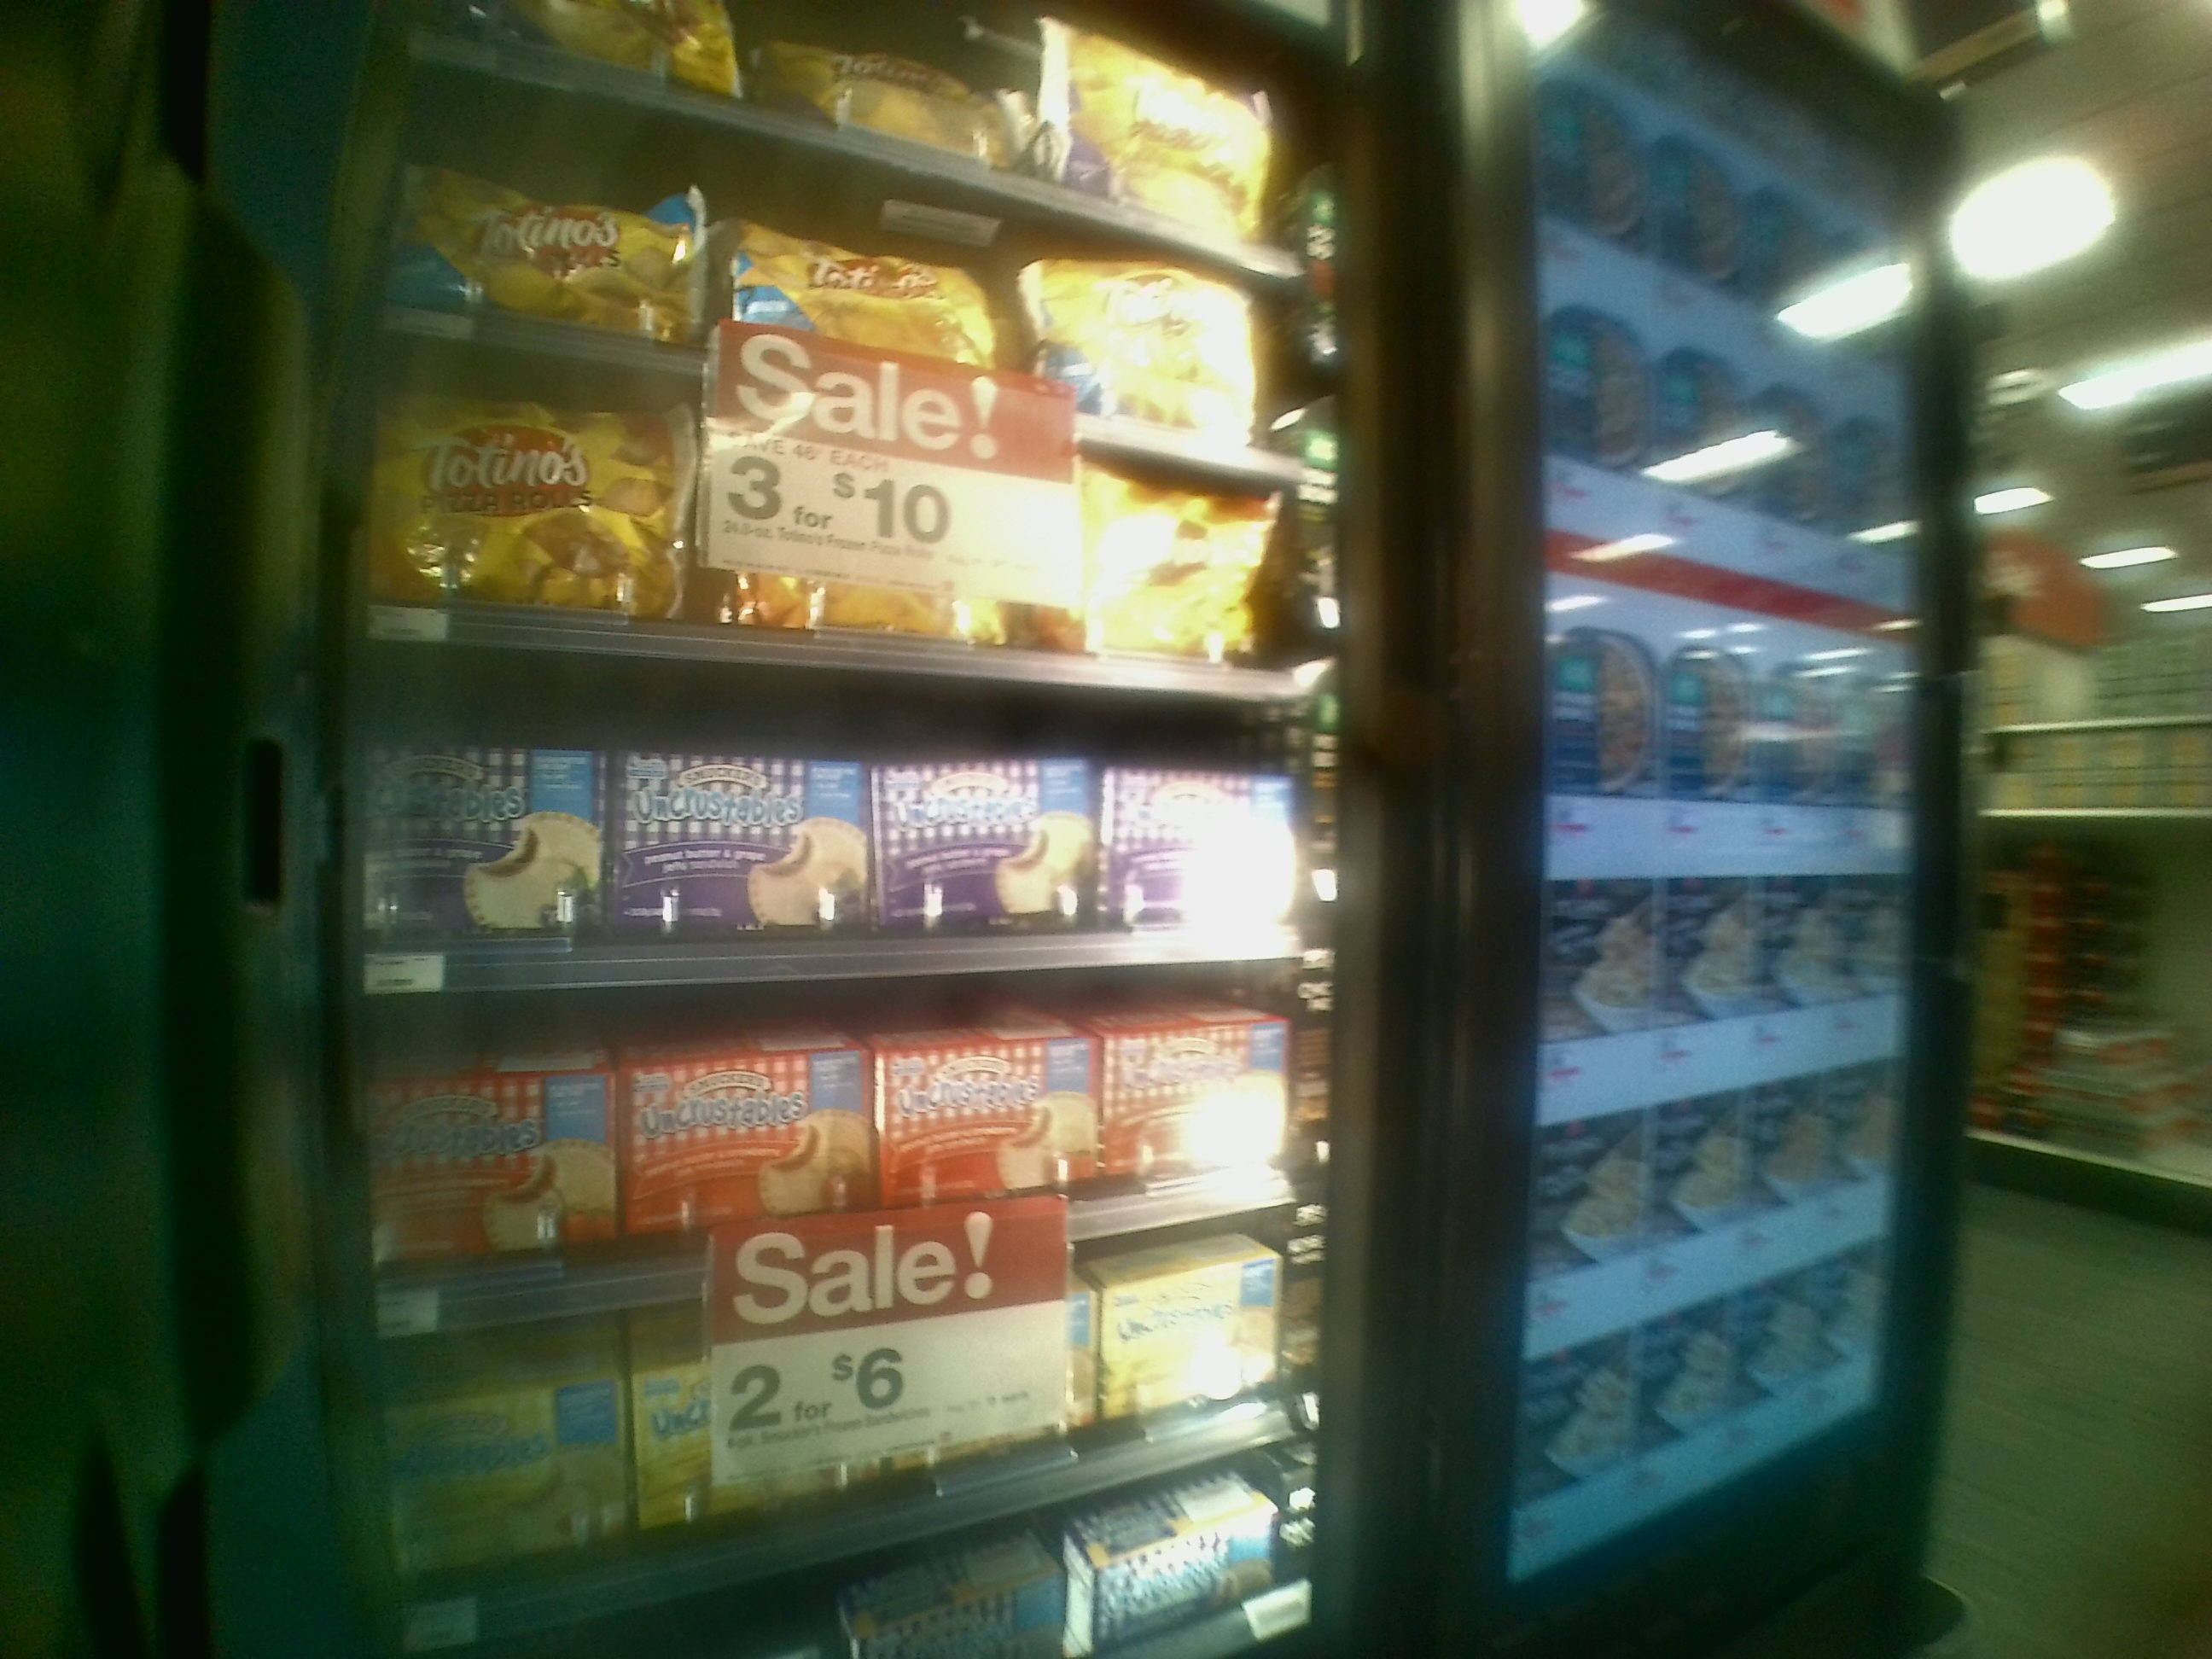shelf: (345, 960, 1345, 1309), (340, 629, 1313, 976), (289, 349, 1339, 669), (347, 1317, 1339, 1596)
